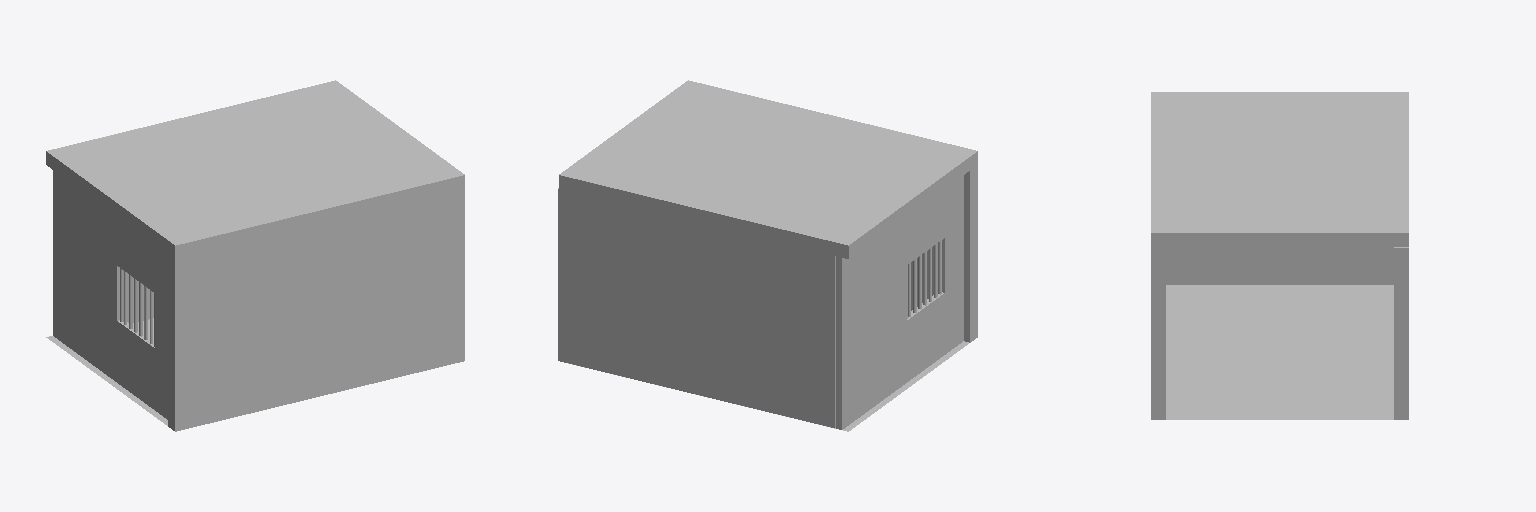
The model's file is ZelleComplete.obj.
The picture shows the model from 3 angles: view 1: azimuth 30°, elevation 25°; view 2: azimuth 150°, elevation 25°; view 3: azimuth 270°, elevation 25°; orthographic projection.
Visible parts, largest first — view 1: Wand2, Dach, Fenster, Bars, Boden; view 2: Seite, Dach, Fenster, Wand2, Bars, Boden; view 3: Dach, Boden, Fenster, Wand2, Seite.
Part boxes in pixels (x1,y1,x2,y2): Wand2: (168, 189, 464, 431); Dach: (46, 80, 464, 259); Fenster: (53, 170, 188, 429); Bars: (120, 268, 154, 346); Boden: (46, 318, 167, 425); Seite: (558, 188, 835, 427); Dach: (559, 80, 977, 258); Fenster: (836, 175, 963, 429); Wand2: (911, 165, 977, 342); Bars: (907, 240, 941, 318); Boden: (568, 341, 968, 431); Dach: (1151, 92, 1408, 246); Boden: (1166, 285, 1393, 419); Fenster: (1166, 247, 1393, 284); Wand2: (1151, 247, 1165, 419); Seite: (1394, 247, 1408, 419).
Size of the model in its own units: 4.41 by 2.7 by 3.4.